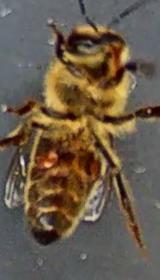varroa_mite: (32, 147, 66, 175)
